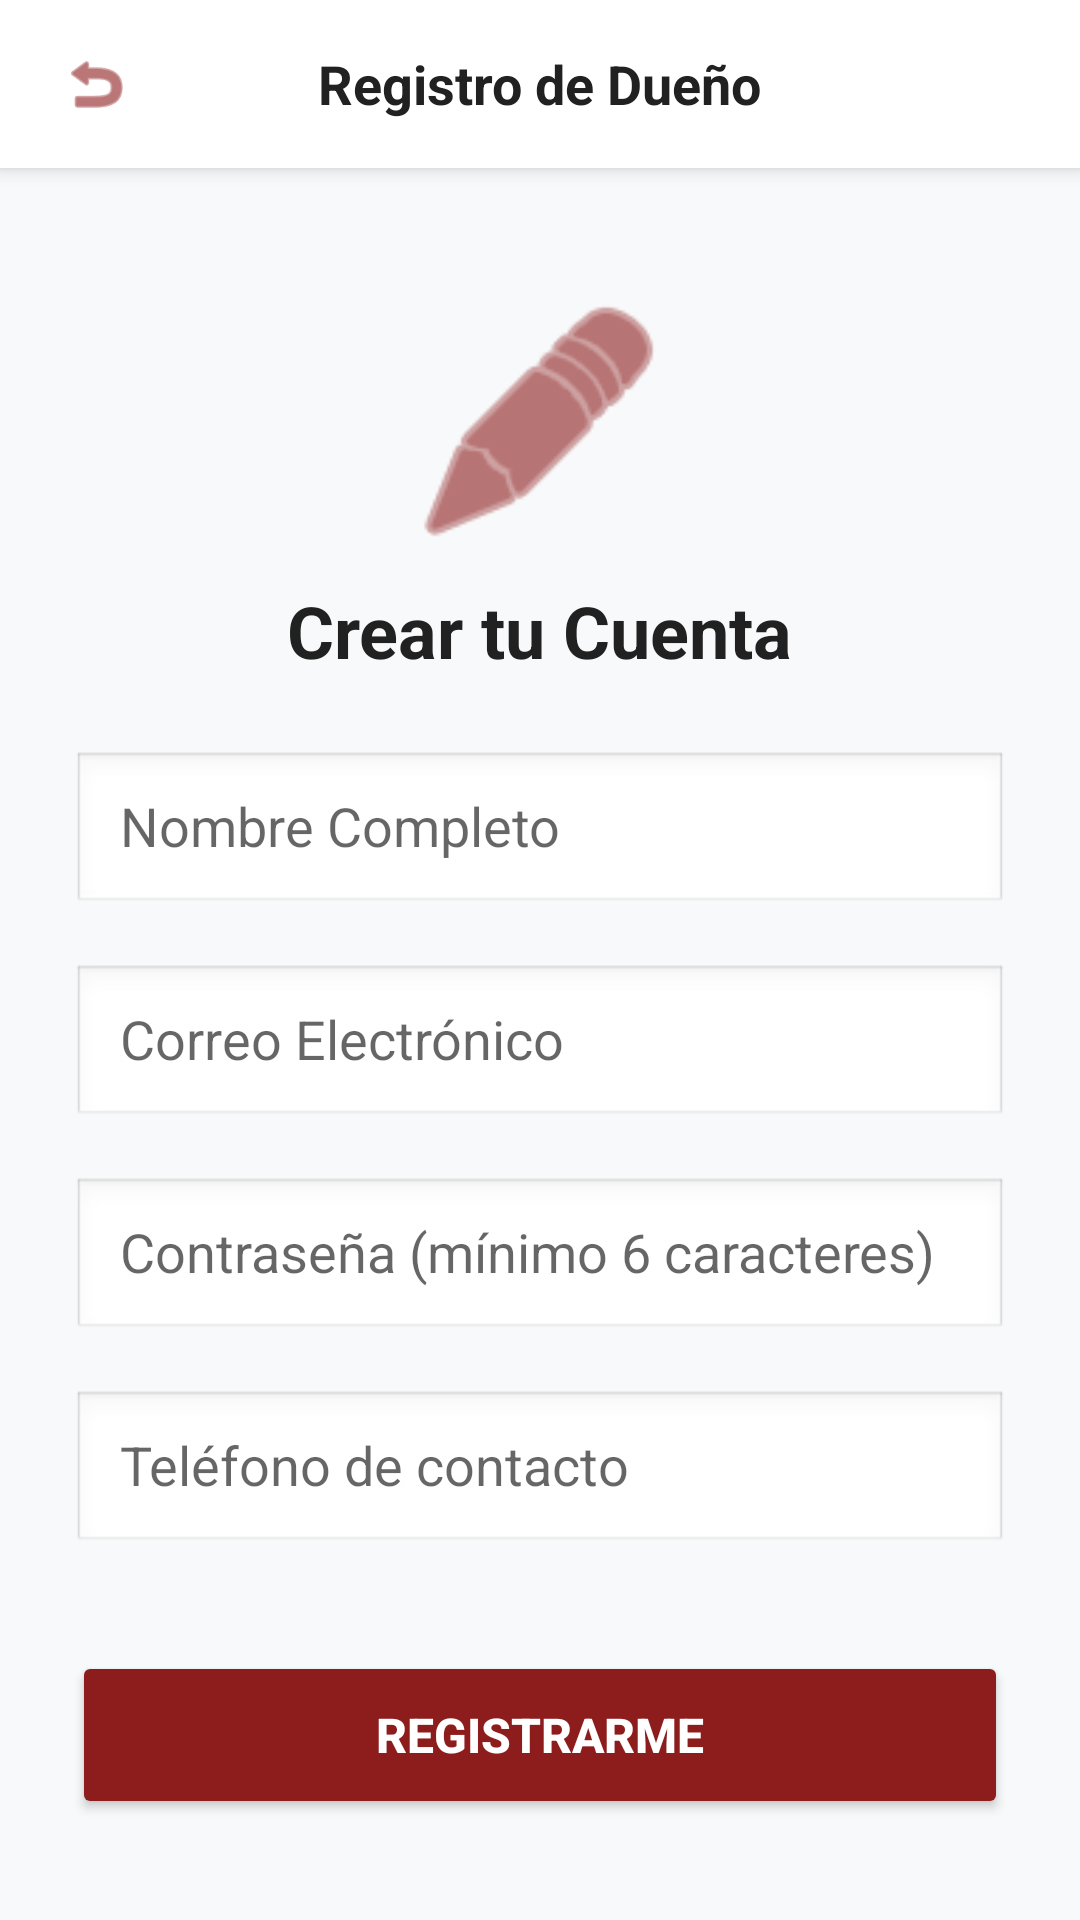

Icons on this 1080*1920 Android screen, each with its box as region(x1, y1, x2, y2):
edit: region(424, 307, 653, 536)
Regresar: region(71, 61, 123, 108)
